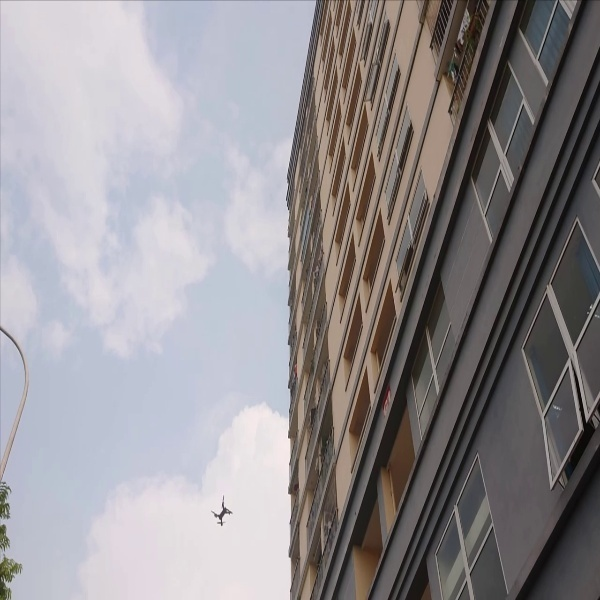drone: (203, 494, 238, 535)
